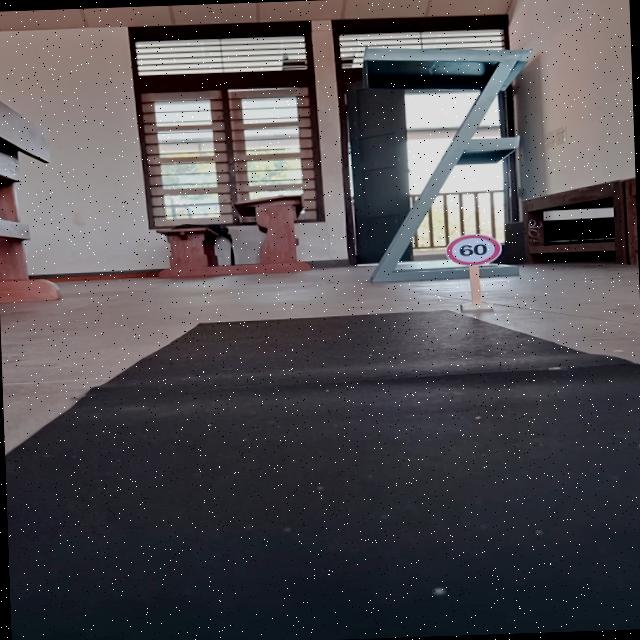Speed60: (443, 232, 505, 267)
